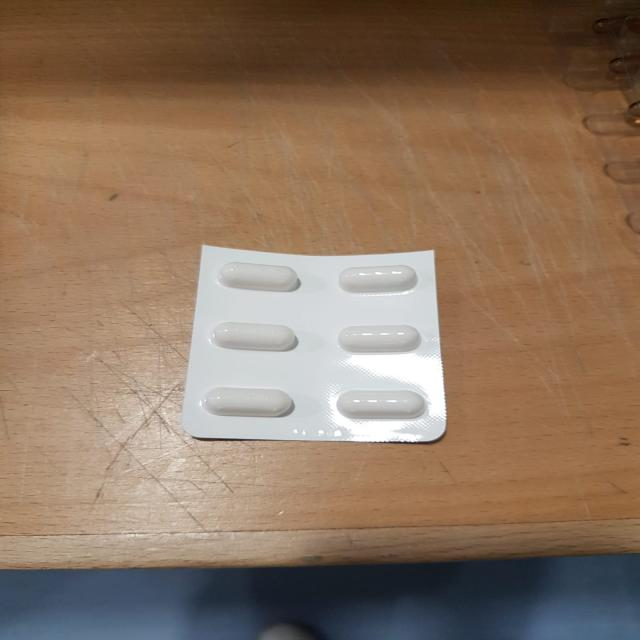Pill: (196, 313, 306, 360), (320, 387, 439, 428), (206, 253, 306, 300), (190, 385, 304, 424), (331, 260, 428, 300), (329, 319, 423, 360)
